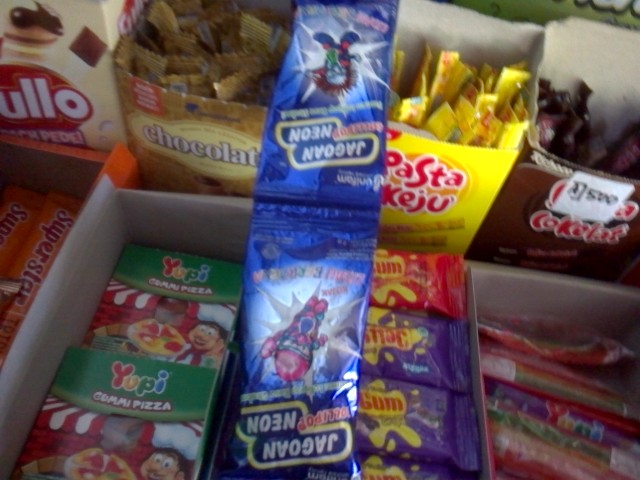jagoan neon: (226, 211, 380, 479), (254, 1, 400, 218)
